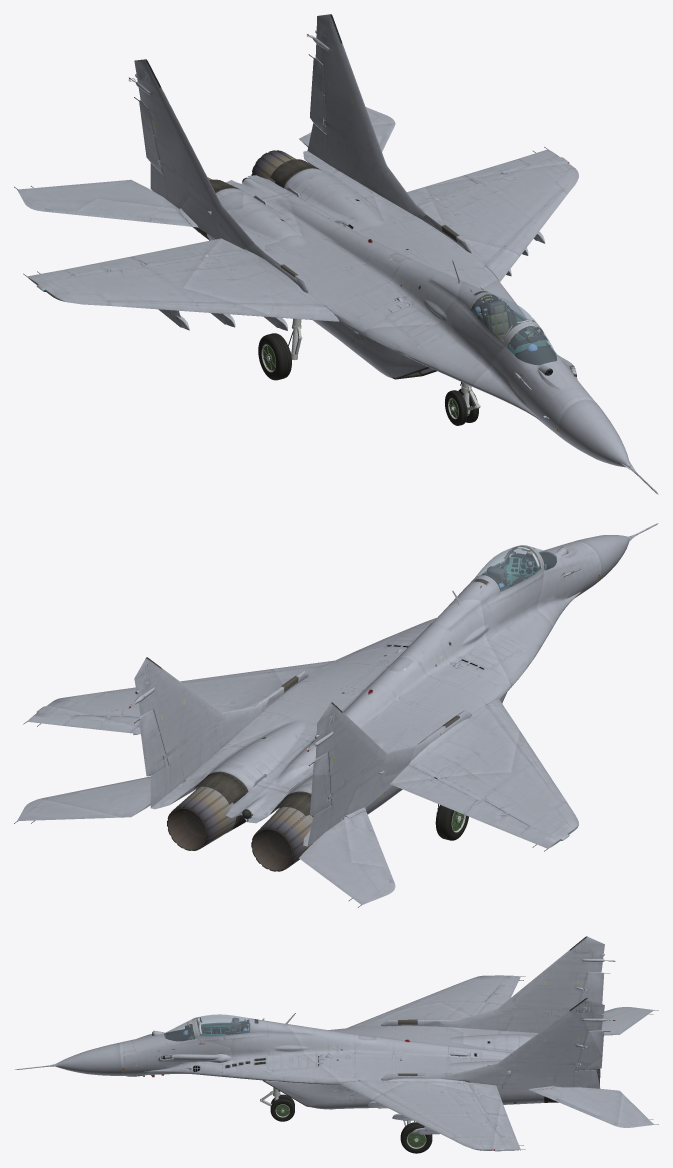
Rendered from MiG-29.fbx.
3 renders of one model, top to bottom at view 1: azimuth 30°, elevation 25°; view 2: azimuth 150°, elevation 25°; view 3: azimuth 270°, elevation 25°, orthographic. The views are drawn at different scales.
Visible parts, largest first — view 1: MiG29_skin_tail_L, MiG29_skin_tail_R, MiG29_skin_gearbay_R, MiG29_skin_fuselage_F, MiG29_skin_cockpit, MiG29_skin_wing1_R, MiG29_stab_R, MiG29_skin_intake_R, MiG29_skin_wing1_L, MiG29_skin_gearbay_L, MiG29_skin_MiG29, MiG29_skin_fuselage_R (+22 smaller); view 2: MiG29_skin_tail_L, MiG29_skin_tail_R, MiG29_skin_fuselage_F, MiG29_skin_MiG29, MiG29_skin_gearbay_R, MiG29_stab_R, MiG29_skin_wing1_R, MiG29_skin_gearbay_L, MiG29_stab_L, MiG29_skin_cockpit, MiG29_skin_wing1_L, MiG29_skin_fuselage_R (+19 smaller); view 3: MiG29_skin_tail_L, MiG29_skin_tail_R, MiG29_skin_fuselage_F, MiG29_skin_gearbay_L, MiG29_skin_cockpit, MiG29_skin_intake_L, MiG29_skin_wing1_L, MiG29_skin_MiG29, MiG29_stab_L, MiG29_skin_gearbay_R, MiG29_skin_fuselage_R, MiG29_skin_wing1_R (+20 smaller).
Part boxes in pixels (bbox=[...]): MiG29_skin_tail_L: bbox=[303, 14, 442, 219]; MiG29_skin_tail_R: bbox=[128, 59, 271, 258]; MiG29_skin_gearbay_R: bbox=[193, 242, 392, 378]; MiG29_skin_fuselage_F: bbox=[399, 260, 567, 404]; MiG29_skin_cockpit: bbox=[512, 351, 631, 467]; MiG29_skin_wing1_R: bbox=[96, 258, 309, 319]; MiG29_stab_R: bbox=[14, 179, 191, 226]; MiG29_skin_intake_R: bbox=[358, 300, 485, 391]; MiG29_skin_wing1_L: bbox=[434, 171, 543, 270]; MiG29_skin_gearbay_L: bbox=[369, 196, 508, 289]; MiG29_skin_MiG29: bbox=[334, 238, 452, 310]; MiG29_skin_fuselage_R: bbox=[260, 190, 393, 257]; MiG29_skin_tail_L: bbox=[128, 657, 271, 809]; MiG29_skin_tail_R: bbox=[303, 702, 442, 846]; MiG29_skin_fuselage_F: bbox=[399, 545, 565, 662]; MiG29_skin_MiG29: bbox=[334, 621, 475, 717]; MiG29_skin_gearbay_R: bbox=[370, 674, 508, 782]; MiG29_stab_R: bbox=[299, 811, 395, 907]; MiG29_skin_wing1_R: bbox=[433, 711, 542, 817]; MiG29_skin_gearbay_L: bbox=[255, 649, 384, 723]; MiG29_stab_L: bbox=[14, 776, 150, 823]; MiG29_skin_cockpit: bbox=[538, 535, 631, 607]; MiG29_skin_wing1_L: bbox=[96, 664, 308, 720]; MiG29_skin_fuselage_R: bbox=[259, 699, 392, 781]; MiG29_skin_tail_L: bbox=[449, 998, 615, 1104]; MiG29_skin_tail_R: bbox=[449, 936, 615, 1034]; MiG29_skin_fuselage_F: bbox=[176, 1013, 315, 1074]; MiG29_skin_gearbay_L: bbox=[309, 1059, 477, 1109]; MiG29_skin_cockpit: bbox=[56, 1029, 183, 1077]; MiG29_skin_intake_L: bbox=[202, 1061, 337, 1109]; MiG29_skin_wing1_L: bbox=[355, 1083, 496, 1130]; MiG29_skin_MiG29: bbox=[310, 1027, 416, 1061]; MiG29_stab_L: bbox=[532, 1086, 658, 1127]; MiG29_skin_gearbay_R: bbox=[328, 1019, 449, 1042]; MiG29_skin_fuselage_R: bbox=[416, 1040, 523, 1062]; MiG29_skin_wing1_R: bbox=[358, 989, 497, 1023].
Size of the model in its own units: 11.13 by 4.61 by 17.32.
Materials: 10 (7 with a texture image).
